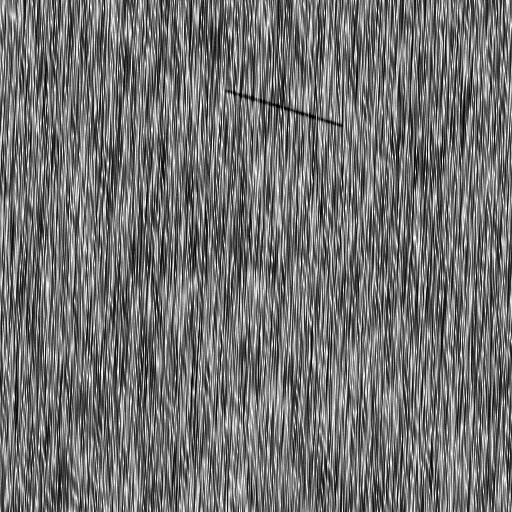scratch: (222, 84, 348, 135)
